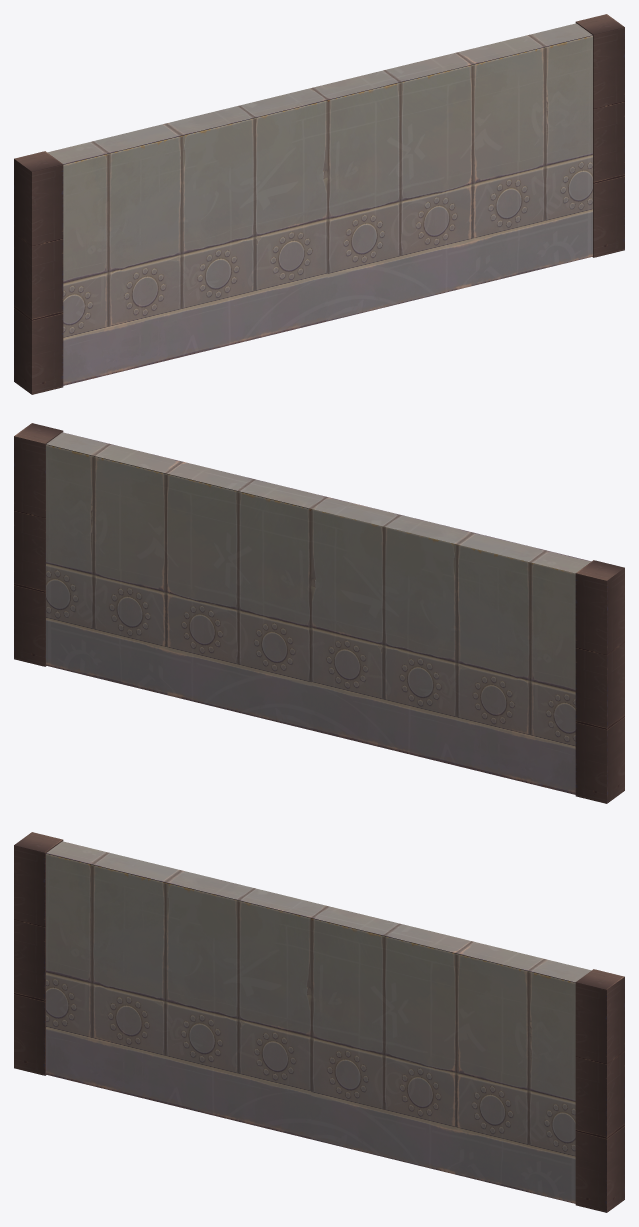
The model's file is Build_Wall_Half_Rock.fbx.
3 views of the same model, one above another, from view 1: azimuth 30°, elevation 25°; view 2: azimuth 150°, elevation 25°; view 3: azimuth 330°, elevation 25° (orthographic).
Visible parts, largest first — view 1: Build_Wall_Half_Rock; view 2: Build_Wall_Half_Rock; view 3: Build_Wall_Half_Rock.
Part boxes in pixels (x1,y1,x2,y2): Build_Wall_Half_Rock: (14, 14, 624, 394); Build_Wall_Half_Rock: (14, 423, 624, 803); Build_Wall_Half_Rock: (14, 832, 624, 1212).
Size of the model in its own units: 400 by 144 by 21.1.
